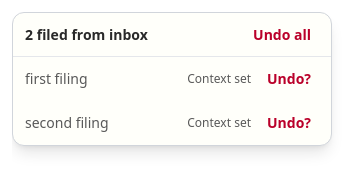
Scenario: Undo all when only some reverts land › reloads nothing when every revert in the batch fails
Click the button "Undo all" at (282, 34), box left=245, top=20, right=319, bottom=48
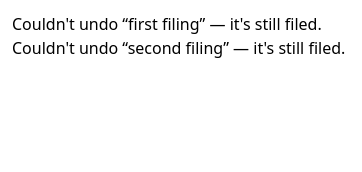
Result: the text "it's still filed" is shown at left=12, top=13, right=322, bottom=35
